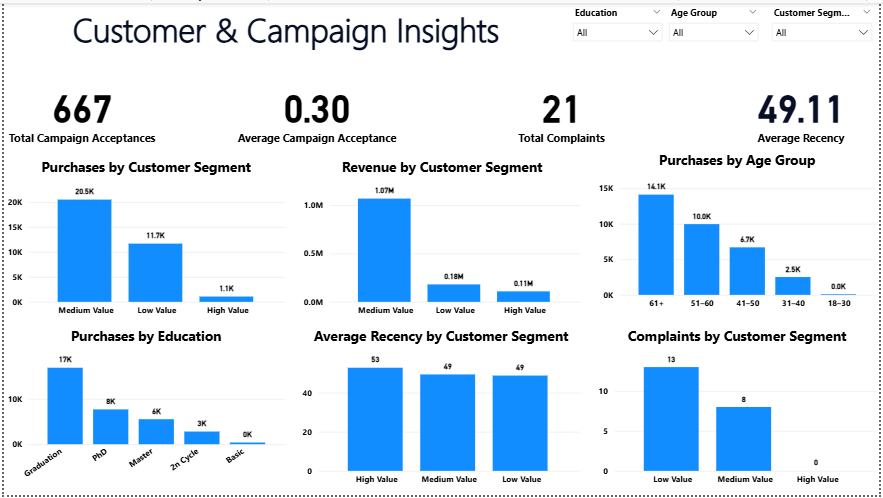

The page's visual inventory and layout, read from the dashboard file:
{"tool":"powerbi","page":{"name":"Customer & Campaign Insights","canvas":[1280,720],"ordinal":1},"visuals":[{"type":"card","fields":{"Values":["CustomerData.Total Campaign Acceptances"]},"box":[0,102.4,228.3,112.7],"z":0},{"type":"card","fields":{"Values":["CustomerData.Average Campaign Acceptance"]},"box":[334.6,102.4,245.9,112.7],"z":1},{"type":"card","fields":{"Values":["CustomerData.Total Complaints"]},"box":[686.8,102.4,259,112.7],"z":2},{"type":"card","fields":{"Values":["CustomerData.Average Recency"]},"box":[1051.7,102.4,228.3,112.7],"z":3},{"type":"clusteredColumnChart","title":"Purchases by Customer Segment","fields":{"Category":["CustomerData.Customer Segment"],"Y":["CustomerData.Total Purchases"]},"box":[0,225.4,415.6,242],"z":4},{"type":"clusteredColumnChart","title":"Revenue by Customer Segment","fields":{"Category":["CustomerData.Customer Segment"],"Y":["CustomerData.Total Revenue"]},"box":[432.4,225.4,415.6,242],"z":5},{"type":"clusteredColumnChart","title":"Purchases by Age Group","fields":{"Category":["CustomerData.Age Group"],"Y":["CustomerData.Total Purchases"]},"box":[864.4,215.1,415.6,242],"z":6},{"type":"clusteredColumnChart","title":"Purchases by Education","fields":{"Category":["CustomerData.Education"],"Y":["CustomerData.Total Purchases"]},"box":[0,472.7,415.6,242],"z":7},{"type":"clusteredColumnChart","fields":{"Category":["CustomerData.Customer Segment"],"Y":["CustomerData.Average Recency"]},"box":[431.7,472.7,415.6,242],"z":8},{"type":"clusteredColumnChart","title":"Complaints by Customer Segment","fields":{"Category":["CustomerData.Customer Segment"],"Y":["CustomerData.Total Complaints"]},"box":[864.9,472.7,415.6,242],"z":9},{"type":"slicer","fields":{"Values":["CustomerData.Customer Segment"]},"box":[1113.7,0,166.8,58.5],"z":10},{"type":"slicer","fields":{"Values":["CustomerData.Age Group"]},"box":[962.9,0,150.7,58.5],"z":11},{"type":"slicer","fields":{"Values":["CustomerData.Education"]},"box":[822.4,0,150.7,58.5],"z":12},{"type":"textbox","box":[0,0,825.4,83.4],"z":13}]}

Visuals, with their boxes in screenshot pixels (x1, y1, x2, y2), scaled from the page's 1280x720 canvas onto the 883x498 screenshot:
card - CustomerData.Total Campaign Acceptances: left=0, top=71, right=157, bottom=149
card - CustomerData.Average Campaign Acceptance: left=231, top=71, right=400, bottom=149
card - CustomerData.Total Complaints: left=474, top=71, right=652, bottom=149
card - CustomerData.Average Recency: left=726, top=71, right=882, bottom=149
"Purchases by Customer Segment" clusteredColumnChart: left=0, top=156, right=287, bottom=323
"Revenue by Customer Segment" clusteredColumnChart: left=298, top=156, right=585, bottom=323
"Purchases by Age Group" clusteredColumnChart: left=596, top=149, right=882, bottom=316
"Purchases by Education" clusteredColumnChart: left=0, top=327, right=287, bottom=494
clusteredColumnChart - CustomerData.Customer Segment x CustomerData.Average Recency: left=298, top=327, right=585, bottom=494
"Complaints by Customer Segment" clusteredColumnChart: left=597, top=327, right=882, bottom=494
slicer - CustomerData.Customer Segment: left=768, top=0, right=882, bottom=40
slicer - CustomerData.Age Group: left=664, top=0, right=768, bottom=40
slicer - CustomerData.Education: left=567, top=0, right=671, bottom=40
textbox: left=0, top=0, right=569, bottom=58
